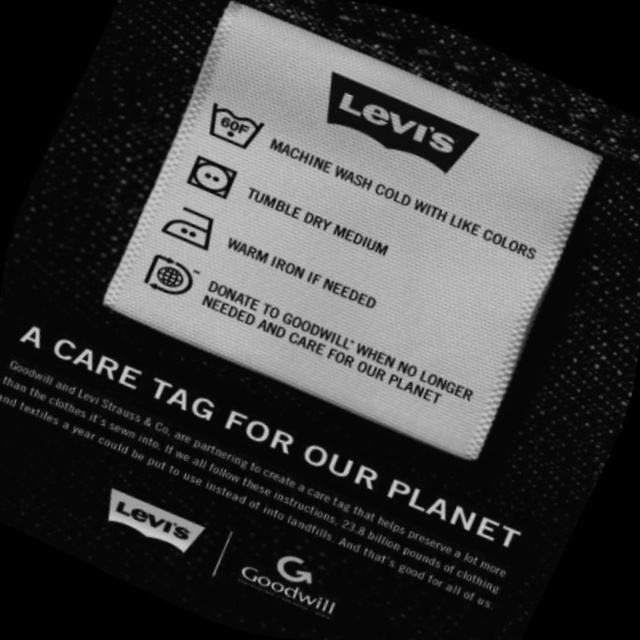30C: (193, 88, 277, 164)
iron_medium: (151, 191, 232, 263)
tumble_dry_medium: (174, 145, 249, 212)
